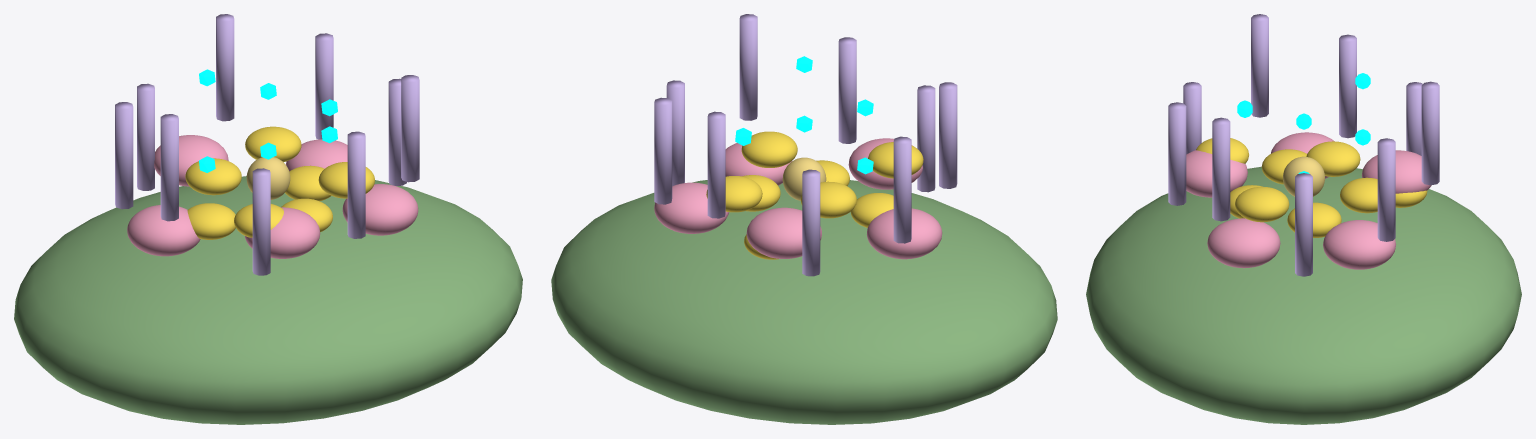
File: flora_wildflower_cluster.glb
3 views of the same model, side by side, from view 1: azimuth 30°, elevation 25°; view 2: azimuth 150°, elevation 25°; view 3: azimuth 270°, elevation 25° (orthographic). The views are drawn at different scales.
Visible parts, largest first — view 1: Sphere, Sphere.011, Sphere.013, Sphere.012, Cylinder.006, Cylinder.005, Cylinder.007, Cylinder.002, Cylinder.004, Cylinder.008, Cylinder.003, Cylinder.001 (+11 smaller); view 2: Sphere, Sphere.011, Sphere.010, Sphere.009, Cylinder.002, Cylinder.003, Cylinder.004, Cylinder.007, Cylinder.008, Cylinder.001, Cylinder.005, Cylinder.006 (+11 smaller); view 3: Sphere, Sphere.013, Sphere.009, Cylinder.002, Cylinder.008, Cylinder.001, Cylinder.007, Cylinder, Cylinder.004, Cylinder.005, Sphere.012, Sphere.008 (+11 smaller).
Boxes of the visible parts, x1,y1,x2,y2 form: Sphere: [14, 176, 522, 424]; Sphere.011: [127, 205, 200, 256]; Sphere.013: [342, 184, 418, 235]; Sphere.012: [245, 207, 320, 258]; Cylinder.006: [252, 168, 270, 275]; Cylinder.005: [160, 114, 178, 221]; Cylinder.007: [347, 131, 365, 238]; Cylinder.002: [216, 14, 234, 121]; Cylinder.004: [115, 102, 133, 209]; Cylinder.008: [401, 75, 419, 182]; Cylinder.003: [137, 83, 154, 190]; Cylinder.001: [315, 33, 333, 139]; Sphere: [551, 180, 1057, 424]; Sphere.011: [867, 208, 942, 259]; Sphere.010: [746, 207, 821, 258]; Sphere.009: [654, 182, 728, 233]; Cylinder.002: [707, 111, 725, 218]; Cylinder.003: [802, 169, 820, 276]; Cylinder.004: [893, 136, 911, 243]; Cylinder.007: [838, 37, 856, 143]; Cylinder.008: [739, 14, 757, 120]; Cylinder.001: [654, 97, 672, 204]; Cylinder.005: [939, 82, 957, 188]; Cylinder.006: [917, 85, 935, 192]; Sphere: [1086, 166, 1521, 424]; Sphere.013: [1207, 218, 1280, 268]; Sphere.009: [1323, 220, 1395, 269]; Cylinder.002: [1421, 81, 1439, 185]; Cylinder.008: [1212, 117, 1230, 221]; Cylinder.001: [1377, 138, 1395, 241]; Cylinder.007: [1168, 102, 1186, 205]; Cylinder: [1295, 173, 1312, 276]; Cylinder.004: [1339, 34, 1356, 138]; Cylinder.005: [1251, 14, 1268, 117]; Sphere.012: [1186, 150, 1247, 197]; Sphere.008: [1235, 186, 1289, 222].
Size of the model in its own units: 3.36 by 2.14 by 2.88.
